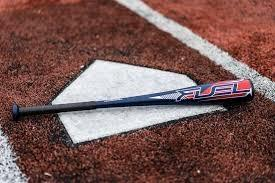Baseball-Bat: (13, 79, 254, 120)
